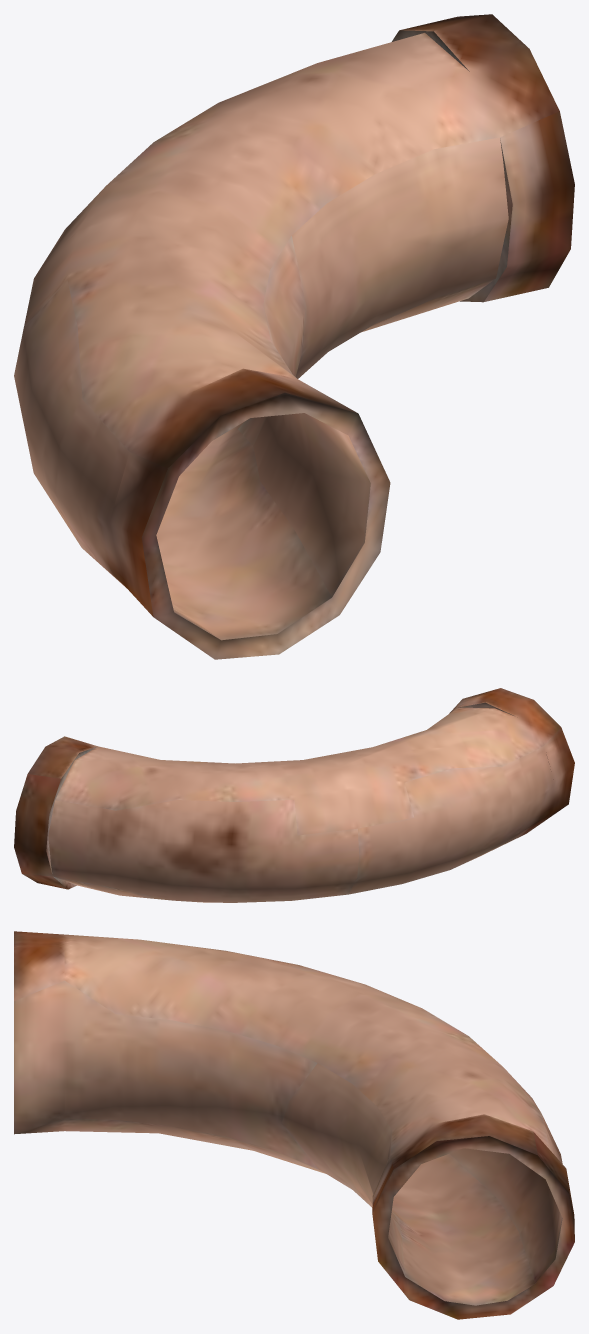
The model's file is small_copper_pipe_03.glb.
The picture shows the model from 3 angles, top to bottom: view 1: azimuth 30°, elevation 25°; view 2: azimuth 150°, elevation 25°; view 3: azimuth 270°, elevation 25°; orthographic projection. The views are drawn at different scales.
Visible parts, largest first — view 1: small_copper_pipe_03; view 2: small_copper_pipe_03; view 3: small_copper_pipe_03.
Part boxes in pixels (<box>): small_copper_pipe_03: <box>14,14,574,659</box>; small_copper_pipe_03: <box>14,688,574,902</box>; small_copper_pipe_03: <box>14,931,574,1319</box>.
Size of what is drawn, in the model's own units: 0.0592 by 0.0215 by 0.0593.
1 material, 1 textured.
